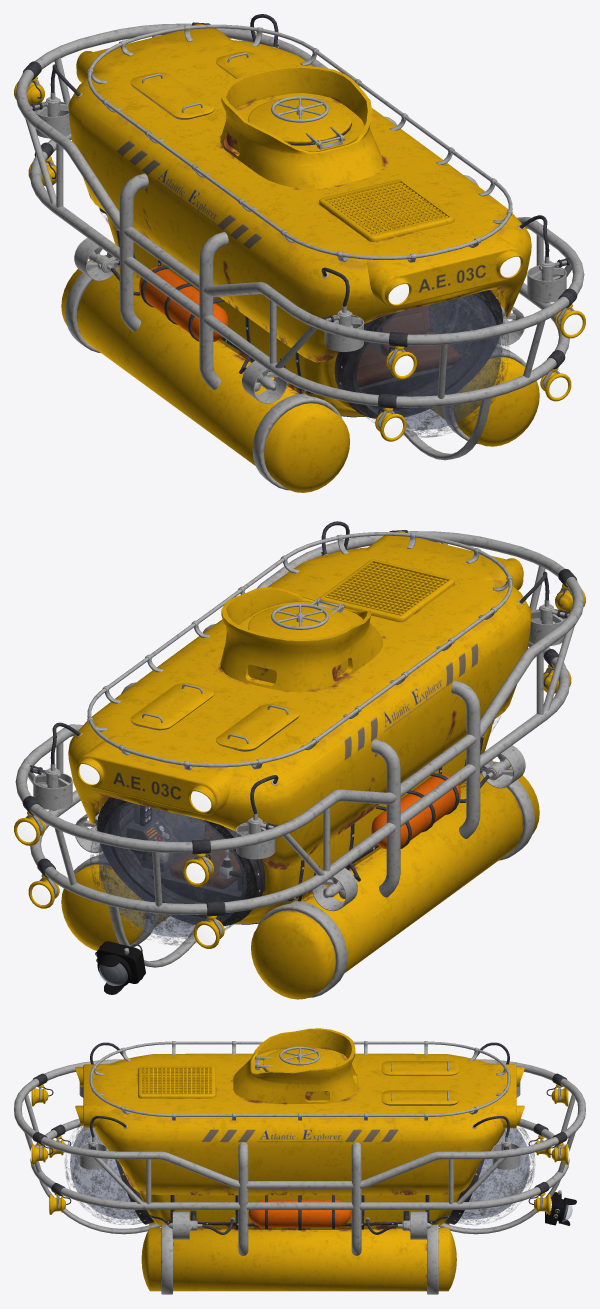
Rendered from chassis.glb.
3 views of the same model, one above another, from view 1: azimuth 30°, elevation 25°; view 2: azimuth 150°, elevation 25°; view 3: azimuth 270°, elevation 25° (orthographic). The views are drawn at different scales.
Visible parts, largest first — view 1: UpperHull.001_7, OutsideDetails02.001_3, LowerHull.001_6, OutsideDetails01.001_2, Transparency.002_4, InnerHull.001_0, Interior.001_5, Lights.002_1; view 2: UpperHull.001_7, OutsideDetails02.001_3, LowerHull.001_6, OutsideDetails01.001_2, Transparency.002_4, InnerHull.001_0, Interior.001_5, Lights.002_1; view 3: UpperHull.001_7, LowerHull.001_6, OutsideDetails02.001_3, OutsideDetails01.001_2, Transparency.002_4, InnerHull.001_0.
Part boxes in pixels (left/top/right/bottom): UpperHull.001_7: left=68, top=23, right=531, bottom=362; OutsideDetails02.001_3: left=15, top=22, right=584, bottom=490; LowerHull.001_6: left=61, top=51, right=539, bottom=492; OutsideDetails01.001_2: left=14, top=14, right=585, bottom=441; Transparency.002_4: left=99, top=208, right=509, bottom=437; InnerHull.001_0: left=105, top=124, right=502, bottom=418; Interior.001_5: left=356, top=305, right=459, bottom=387; Lights.002_1: left=384, top=256, right=582, bottom=437; UpperHull.001_7: left=68, top=531, right=531, bottom=869; OutsideDetails02.001_3: left=15, top=530, right=584, bottom=997; LowerHull.001_6: left=61, top=563, right=539, bottom=999; OutsideDetails01.001_2: left=14, top=521, right=585, bottom=994; Transparency.002_4: left=90, top=716, right=500, bottom=985; InnerHull.001_0: left=97, top=720, right=494, bottom=925; Interior.001_5: left=126, top=804, right=243, bottom=891; Lights.002_1: left=17, top=764, right=215, bottom=945; UpperHull.001_7: left=75, top=1028, right=524, bottom=1195; LowerHull.001_6: left=139, top=1061, right=460, bottom=1291; OutsideDetails02.001_3: left=14, top=1041, right=585, bottom=1294; OutsideDetails01.001_2: left=31, top=1041, right=576, bottom=1239; Transparency.002_4: left=64, top=1123, right=572, bottom=1224; InnerHull.001_0: left=115, top=1069, right=484, bottom=1224.
Bounding box in the file's own units: 0.7632 × 0.772 × 1.91.
Materials: 8 (8 with a texture image).
